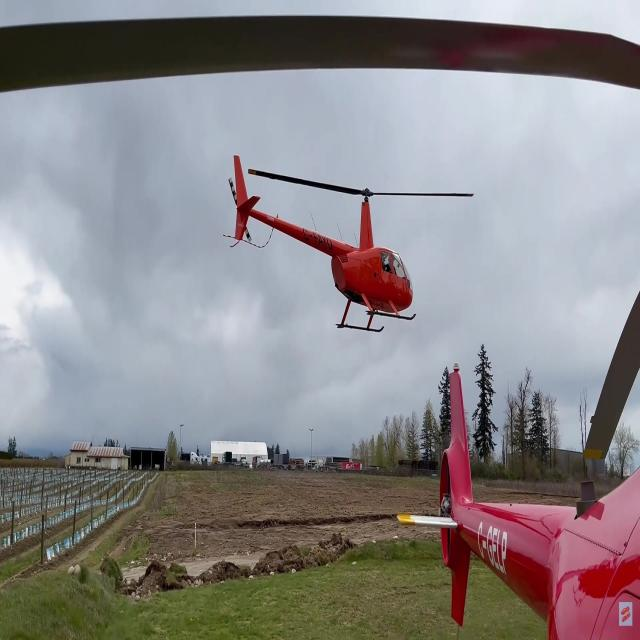CIV_HELO: (232, 154, 415, 335)
